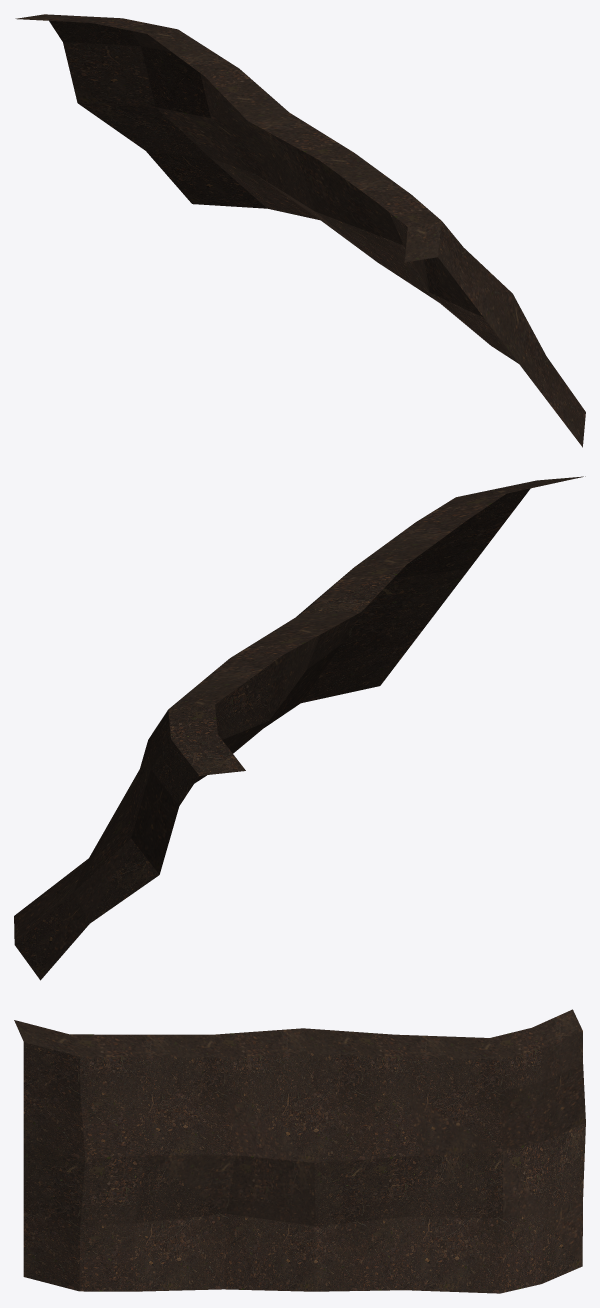
Rendered from dirt_slope1.glb.
3 views of the same model, one above another, from view 1: azimuth 30°, elevation 25°; view 2: azimuth 150°, elevation 25°; view 3: azimuth 270°, elevation 25° (orthographic). The views are drawn at different scales.
Parts seen in each view (by area): view 1: Plane; view 2: Plane; view 3: Plane.
Part boxes in pixels (left/top/right/bottom): Plane: left=15, top=14, right=585, bottom=447; Plane: left=14, top=476, right=585, bottom=980; Plane: left=14, top=1009, right=585, bottom=1293.
Bounding box in the file's own units: 2.65 × 2.33 × 6.31.
1 material, 1 textured.
